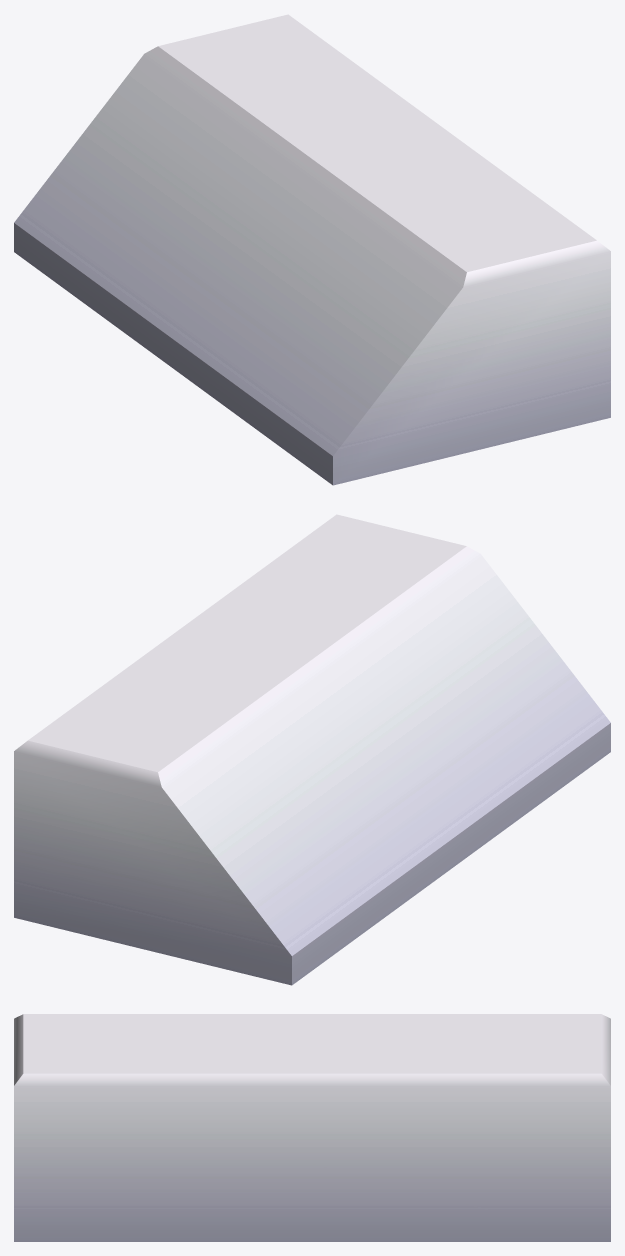
The model's file is none-hq-brick-slope-2x4.glb.
The picture shows the model from 3 angles, top to bottom: view 1: azimuth 30°, elevation 25°; view 2: azimuth 150°, elevation 25°; view 3: azimuth 270°, elevation 25°; orthographic projection. The views are drawn at different scales.
Parts seen in each view (by area): view 1: none-hq-brick-slope-2x4; view 2: none-hq-brick-slope-2x4; view 3: none-hq-brick-slope-2x4.
Boxes of the visible parts, x1=… form: none-hq-brick-slope-2x4: x1=14, y1=14, x2=610, y2=485; none-hq-brick-slope-2x4: x1=14, y1=514, x2=610, y2=985; none-hq-brick-slope-2x4: x1=14, y1=1014, x2=610, y2=1241.
Bounding box in the file's own units: 0.159 × 0.096 × 0.316.
1 material, 1 textured.
